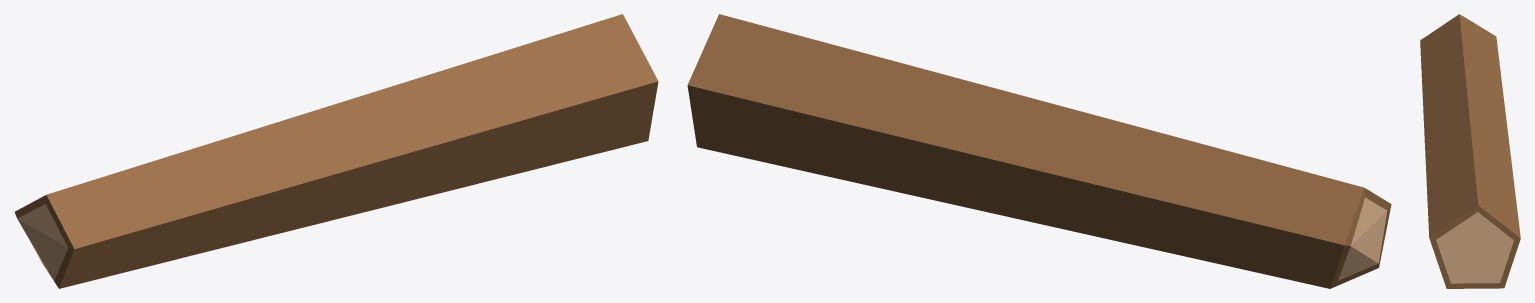
Rendered from Pine_Log_04.fbx.
The picture shows the model from 3 angles, left to right: view 1: azimuth 30°, elevation 25°; view 2: azimuth 150°, elevation 25°; view 3: azimuth 270°, elevation 25°; orthographic projection. The views are drawn at different scales.
Visible parts, largest first — view 1: Pine_Log_04; view 2: Pine_Log_04; view 3: Pine_Log_04.
Part boxes in pixels (bbox=[...]): Pine_Log_04: bbox=[14, 14, 658, 288]; Pine_Log_04: bbox=[687, 14, 1391, 288]; Pine_Log_04: bbox=[1420, 14, 1520, 288].
Bounding box in the file's own units: 331 × 59.08 × 65.36.
